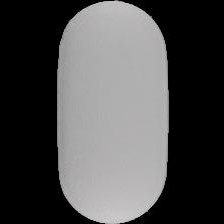10544-952: (0, 0, 224, 224)
